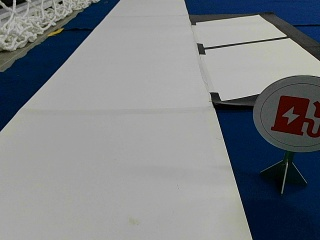battery: (254, 75, 317, 150)
